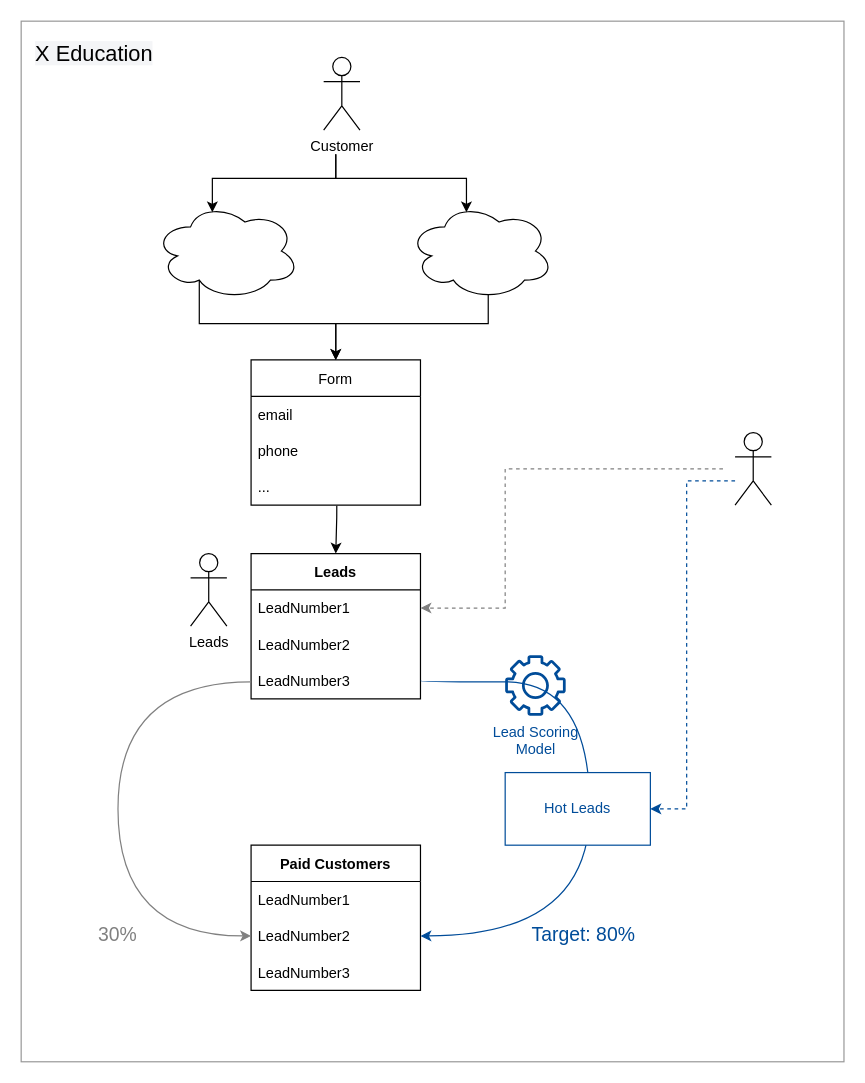
Some shapes in this 865 by 1083 pixel diagram are drawn without their labels. The shapes that lost their labels are listed below. From the top down, each one's centre as x and y in pixels, then its label:
At pixel 226 250: "Social Media Marketing".
At pixel 480 250: "Referrals".
At pixel 752 468: "Sales Team".
